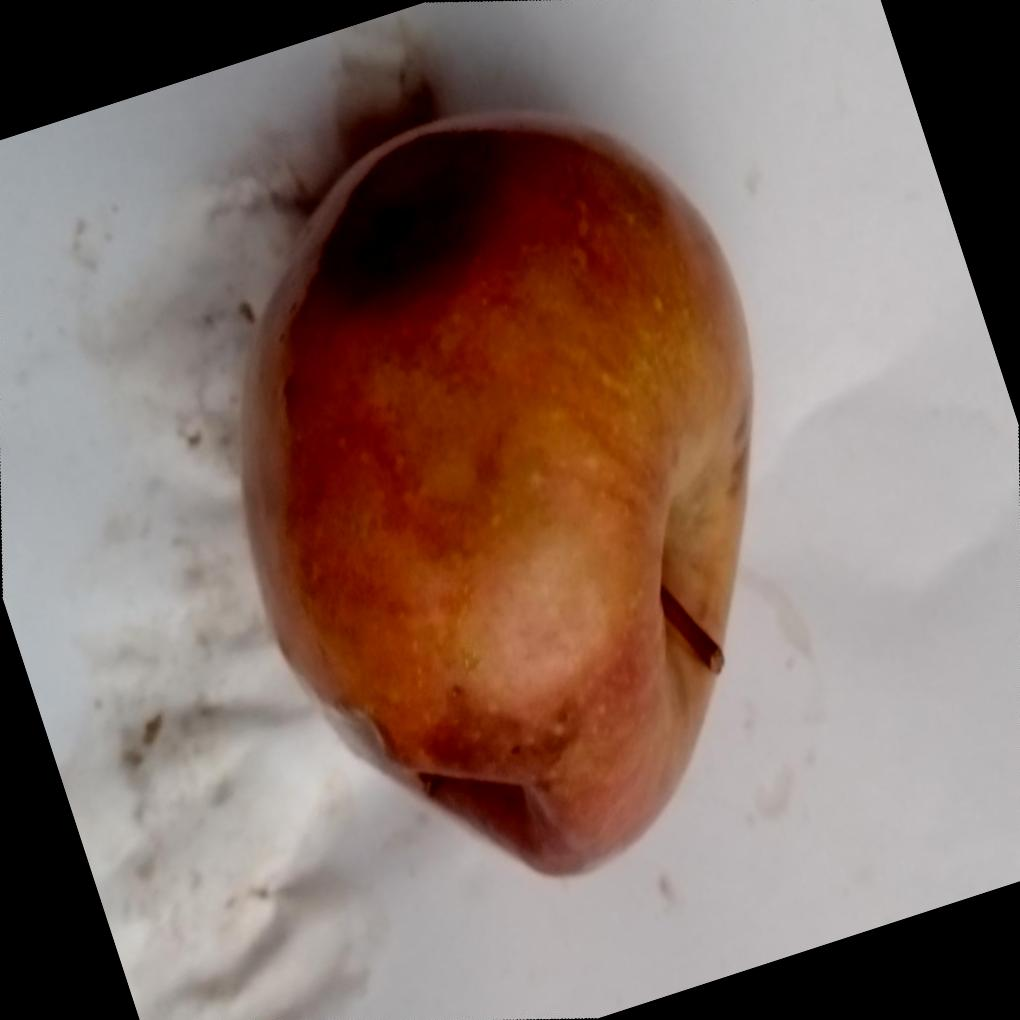FreshOrange: (235, 111, 757, 883)
